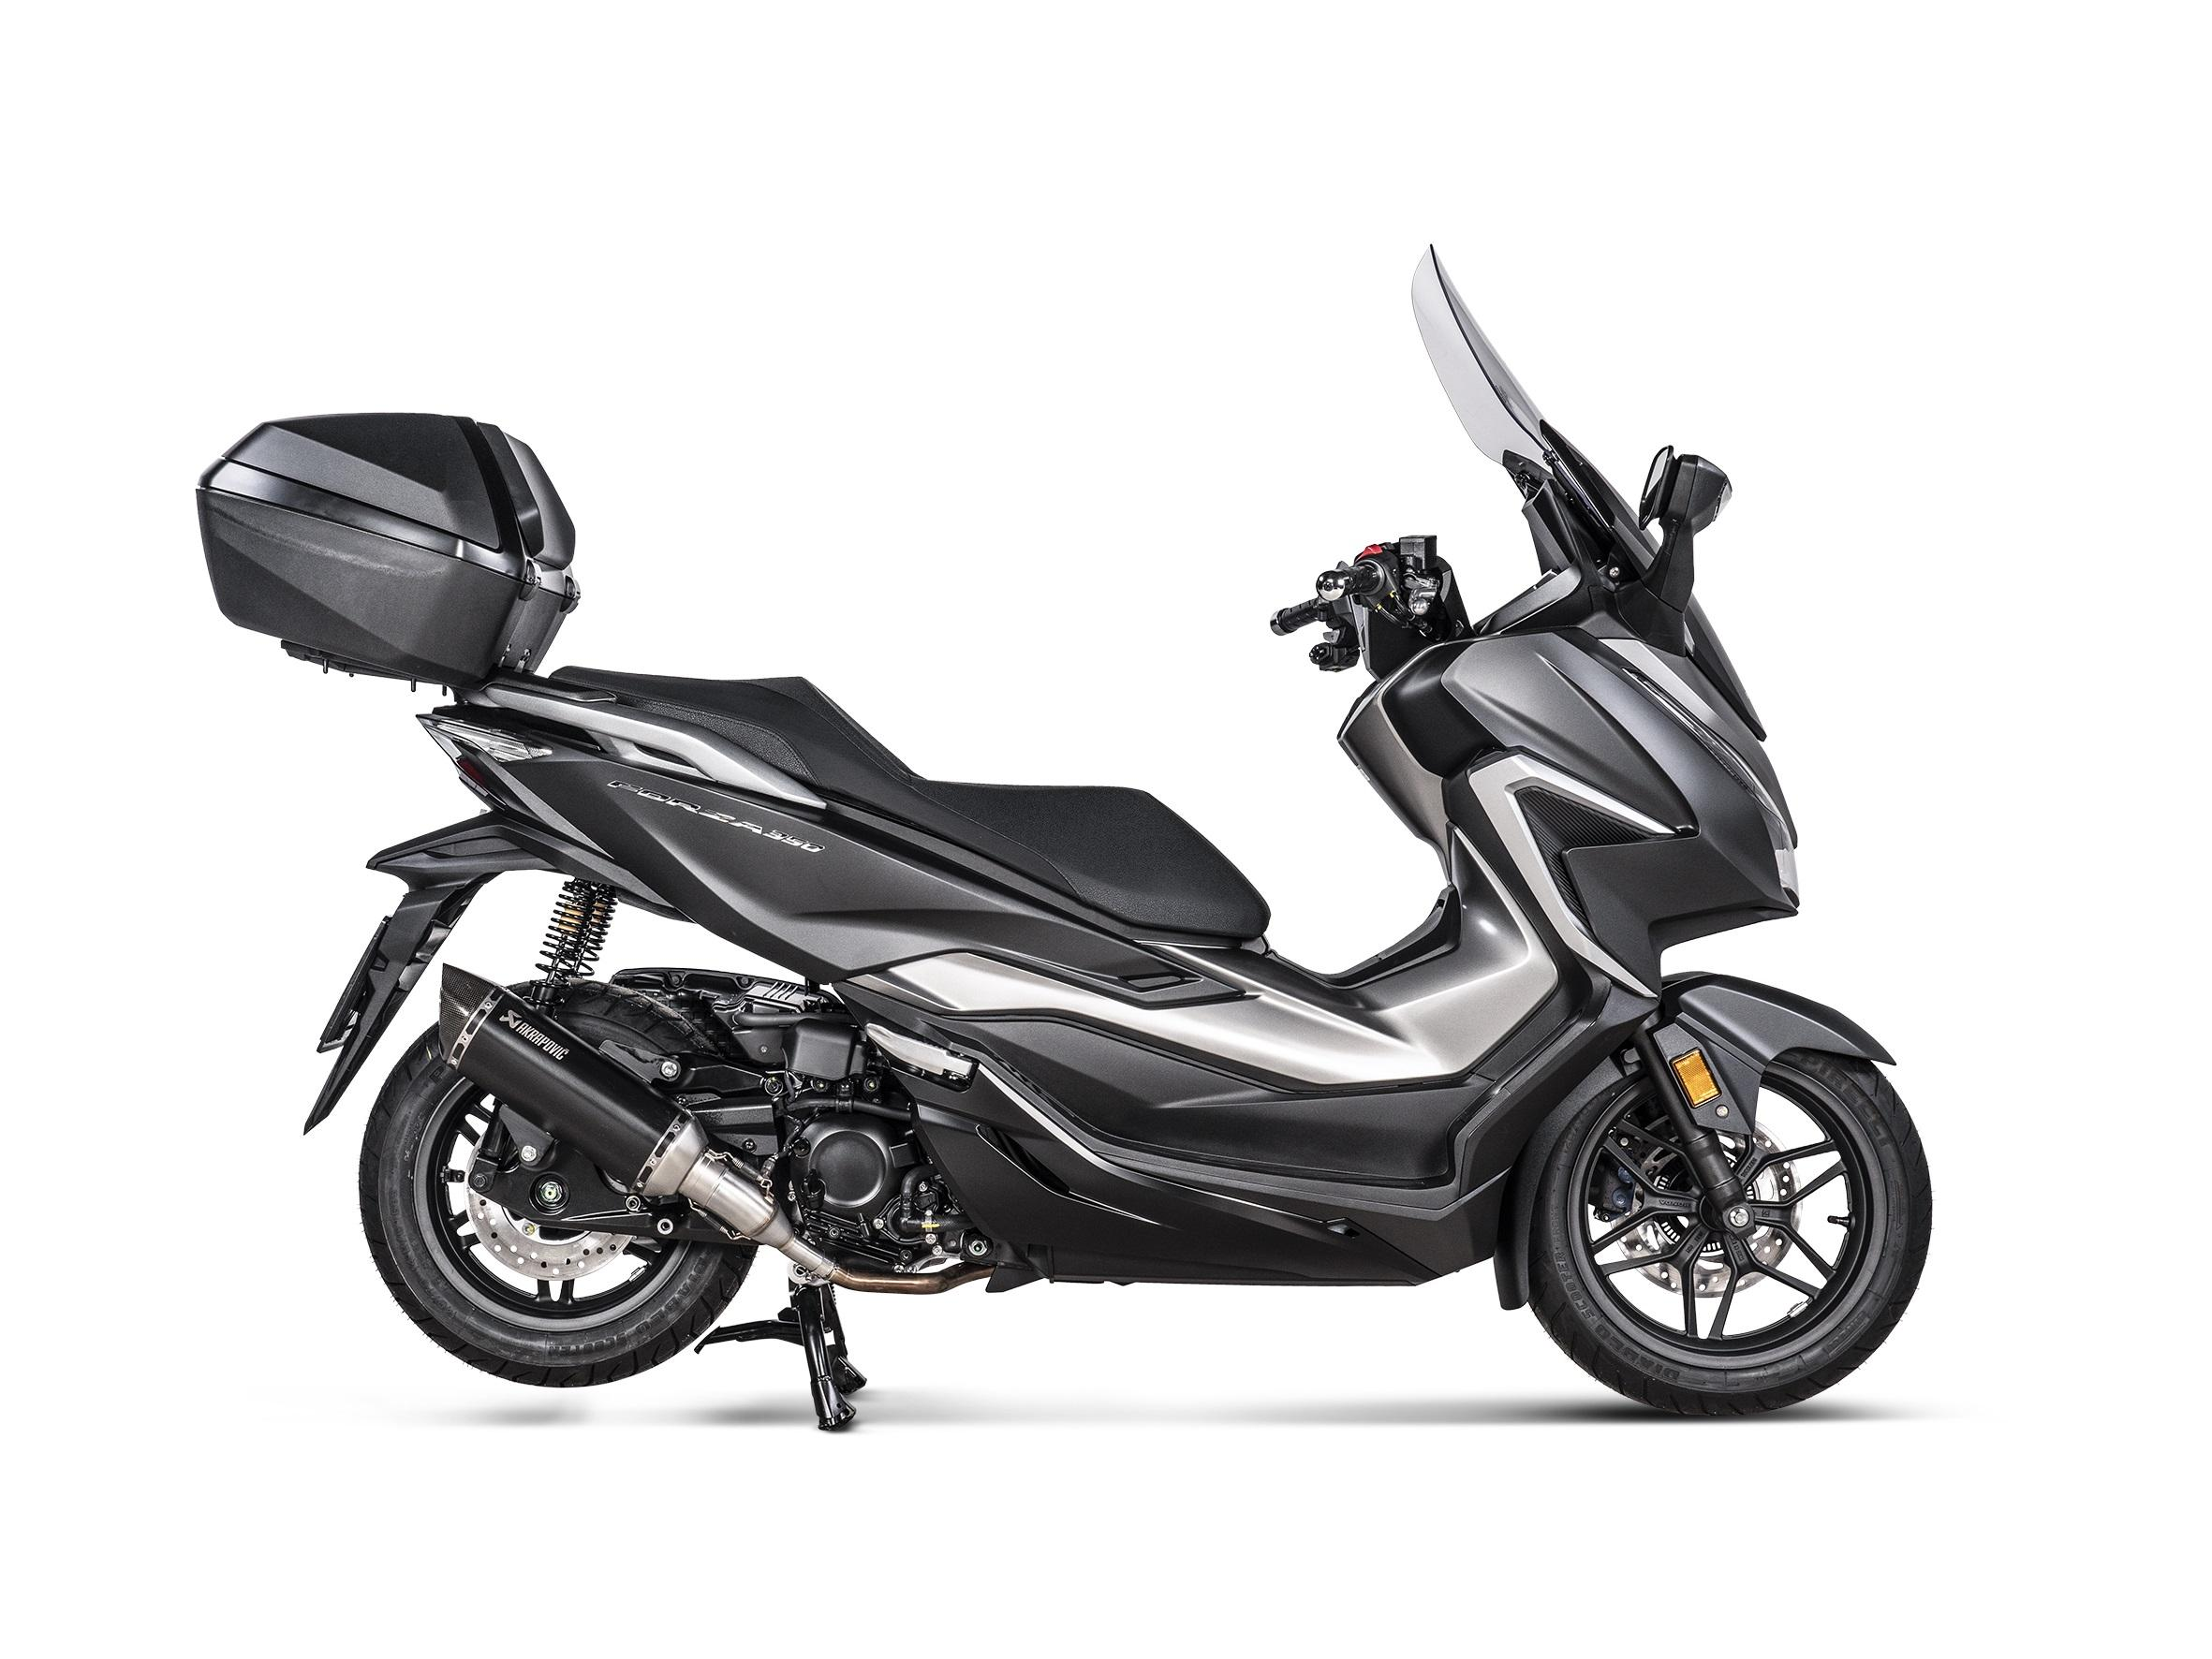engine-chasis: (786, 819, 1558, 1291), (694, 1260, 868, 1431), (521, 877, 619, 1023), (469, 1098, 511, 1194)
exhaust: (438, 962, 995, 1295)
frontside: (1382, 586, 1896, 1310), (1412, 244, 1659, 592)
handlebar: (1269, 477, 1604, 683), (1614, 444, 1733, 657)
motorbike: (192, 247, 1933, 1431)
rearside: (195, 411, 1246, 1220), (478, 1140, 765, 1246), (835, 990, 980, 1093)
seat: (547, 666, 1272, 939)
tank: (1264, 641, 1461, 990)
wheel: (1529, 1047, 1933, 1417), (357, 1021, 758, 1389), (556, 978, 727, 1060)
